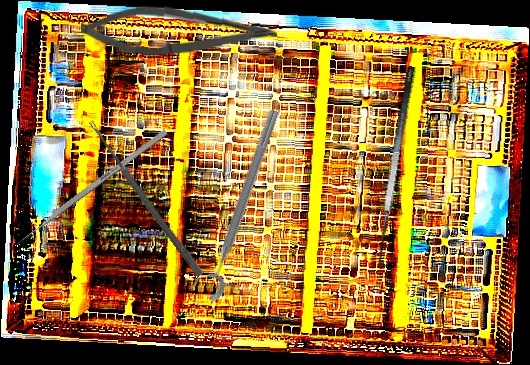Fixation Ring: (188, 103, 286, 304)
Micro Scissor: (80, 0, 278, 60)
Pusher: (12, 128, 169, 249)
Spatula Surgical: (366, 65, 434, 271)
Surgical Spoon: (86, 119, 205, 278)
